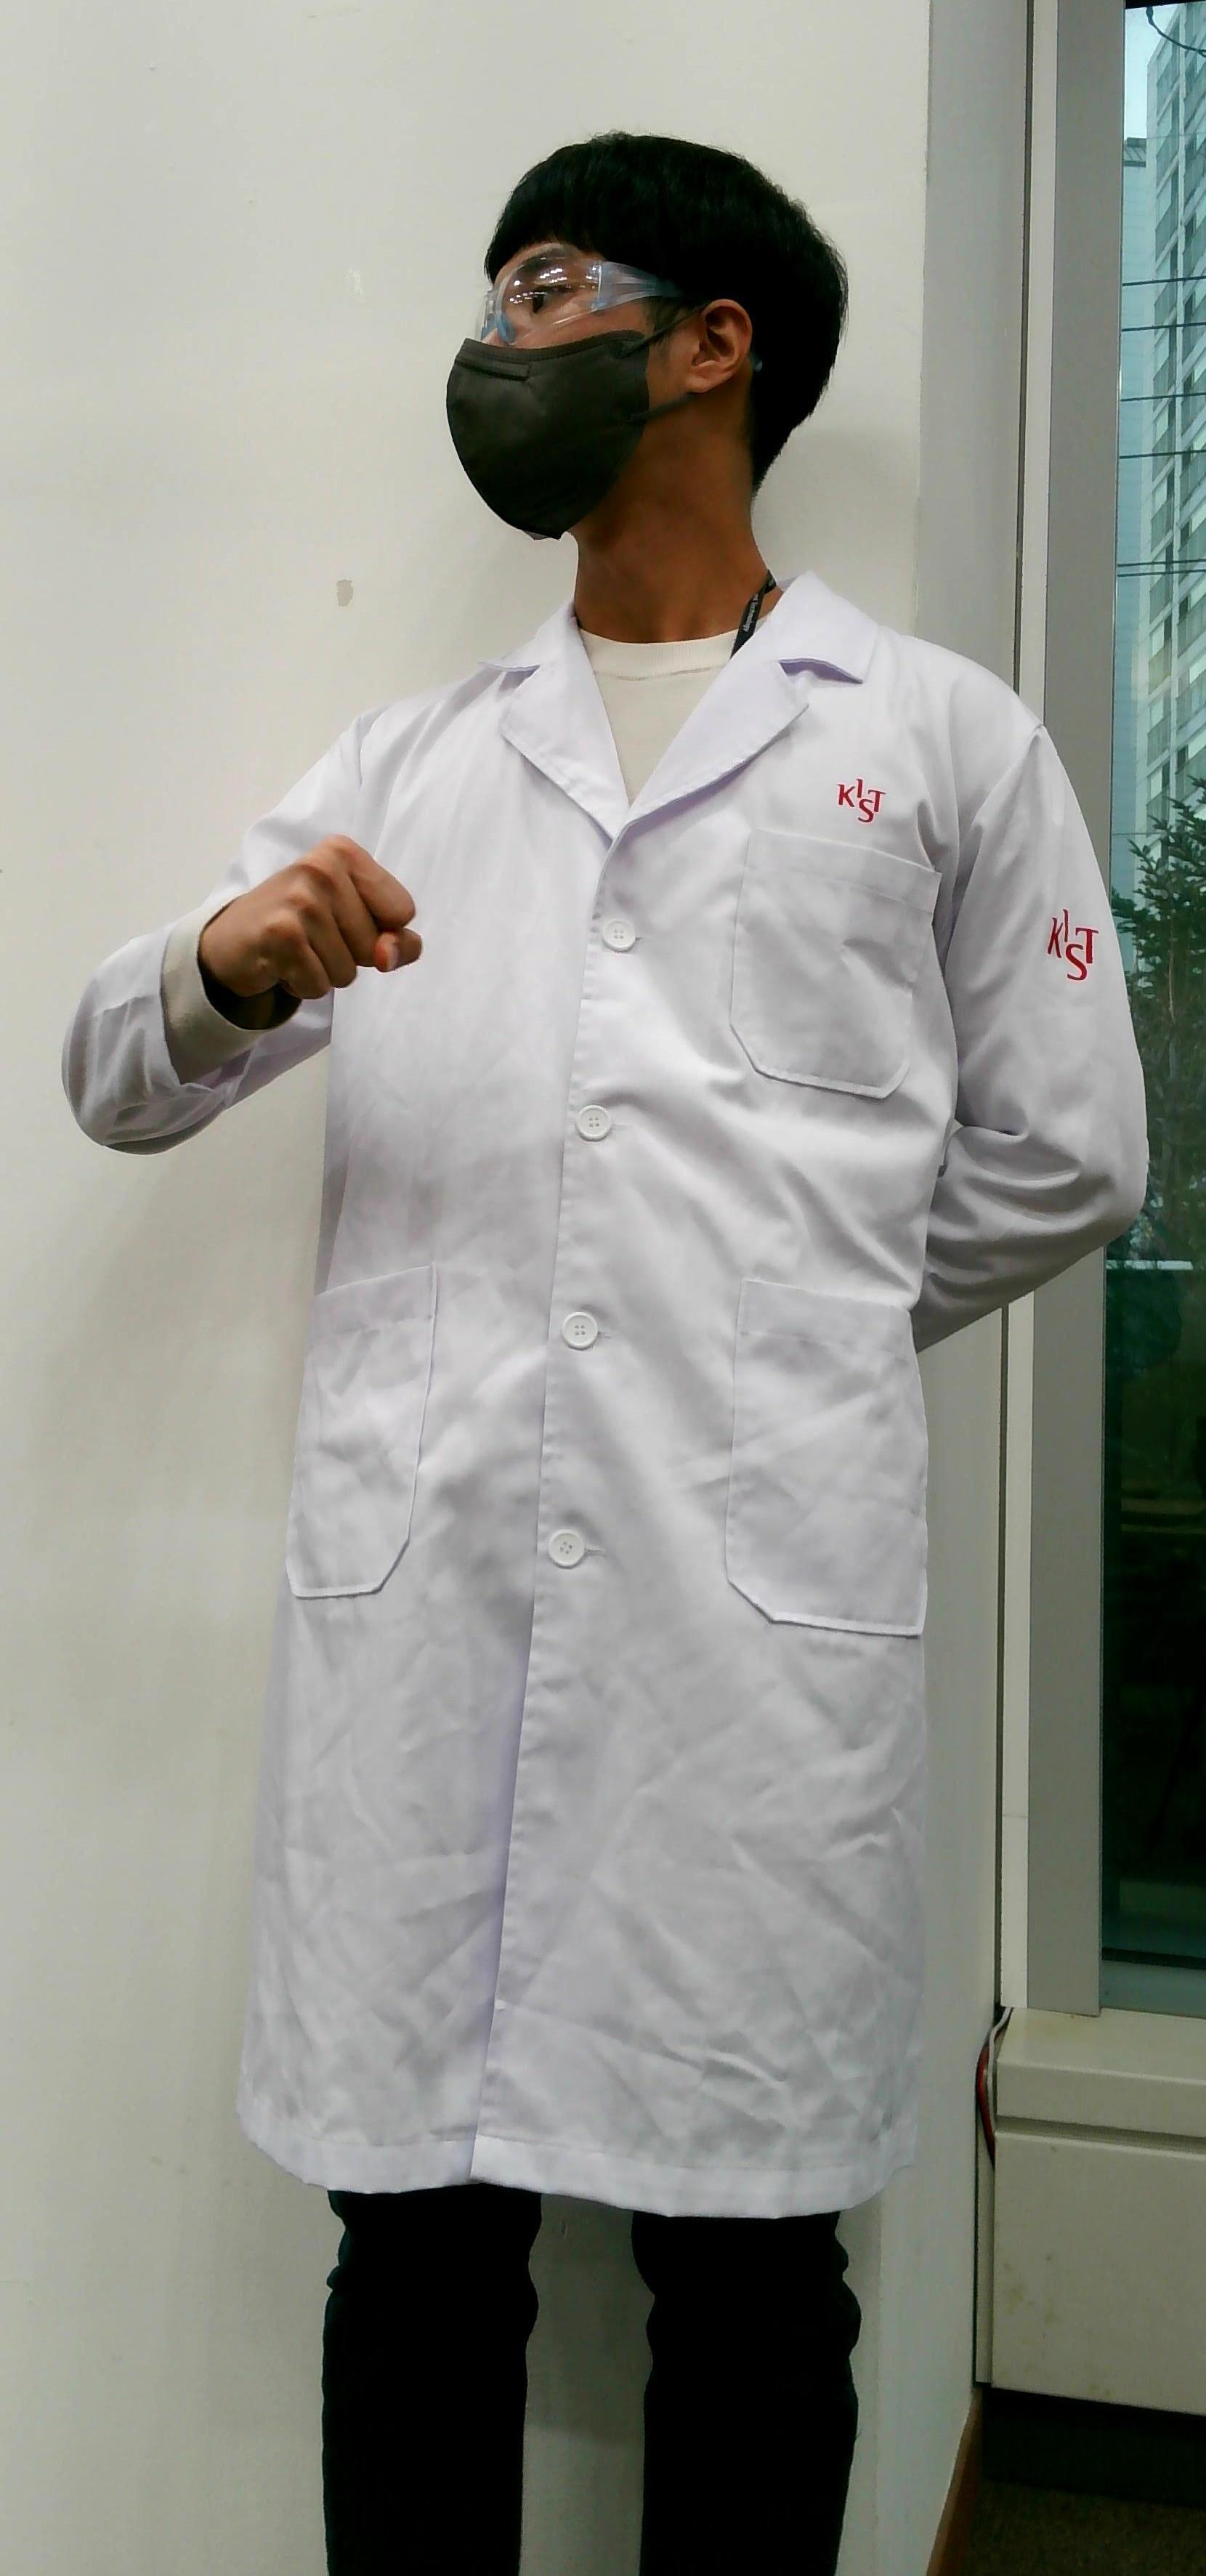lab_coat: (338, 734, 974, 2193)
